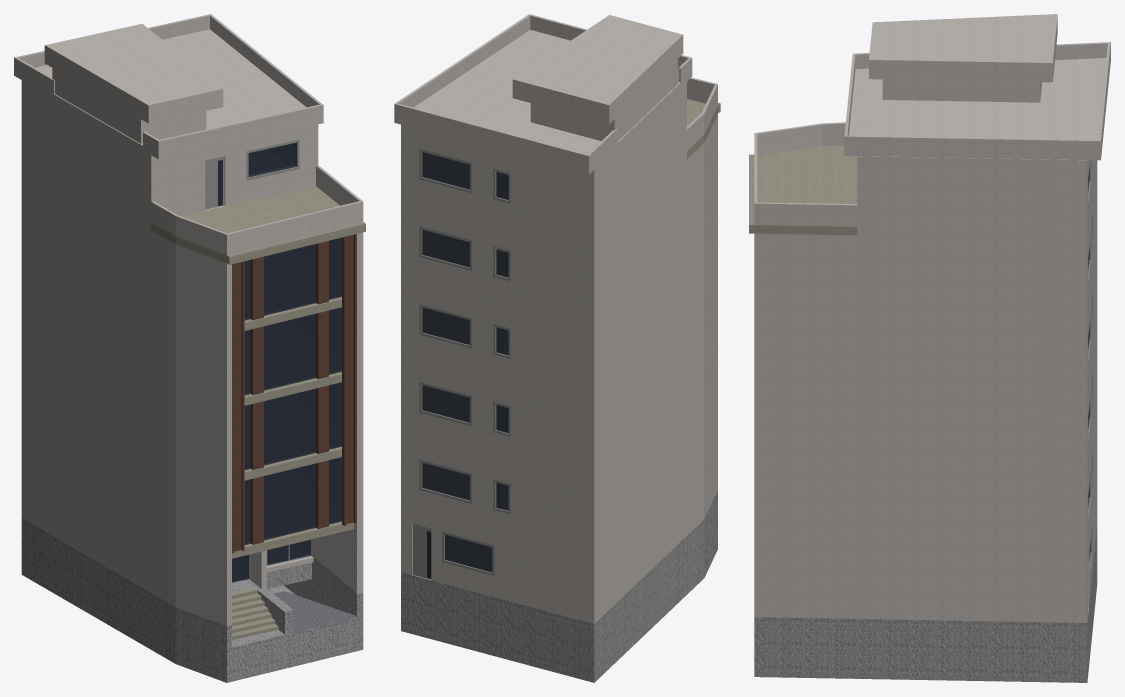
Rendered from uploads_files_2828537_building.FBX.
3 renders of one model, left to right at view 1: azimuth 30°, elevation 25°; view 2: azimuth 150°, elevation 25°; view 3: azimuth 270°, elevation 25°, orthographic. The views are drawn at different scales.
Visible parts, largest first — view 1: Layer:Wall_white, Layer:tang1, Layer:Glass, Layer:lancan, Layer:san, Layer:cot, Layer:Wall_black, Layer:Cauthang, Layer:Ham, Layer:BASE, Layer:Door, Layer:Frame; view 2: Layer:Wall_white, Layer:tang1, Layer:Frame, Layer:Glass, Layer:lancan, Layer:Door, Layer:san; view 3: Layer:Wall_white, Layer:tang1, Layer:lancan, Layer:san, Layer:Frame.
Boxes of the visible parts, x1,y1,x2,y2 form: Layer:Wall_white: (14, 23, 363, 625); Layer:tang1: (21, 518, 363, 682); Layer:Glass: (218, 142, 341, 544); Layer:lancan: (14, 14, 363, 254); Layer:san: (151, 186, 365, 558); Layer:cot: (232, 234, 356, 553); Layer:Wall_black: (251, 241, 328, 544); Layer:Cauthang: (232, 588, 278, 639); Layer:Ham: (274, 591, 356, 632); Layer:BASE: (232, 539, 310, 582); Layer:Door: (205, 156, 224, 209); Layer:Frame: (246, 139, 299, 564); Layer:Wall_white: (394, 15, 717, 623); Layer:tang1: (401, 491, 717, 682); Layer:Frame: (419, 149, 510, 575); Layer:Glass: (422, 152, 508, 579); Layer:lancan: (394, 14, 717, 170); Layer:Door: (413, 524, 431, 579); Layer:san: (687, 99, 720, 158); Layer:Wall_white: (754, 14, 1110, 622); Layer:tang1: (754, 526, 1097, 682); Layer:lancan: (754, 42, 1110, 226); Layer:san: (749, 145, 857, 235); Layer:Frame: (1088, 160, 1092, 577).
Bounding box in the file's own units: 8.87 × 13.67 × 23.89.
7 materials, 5 textured.
